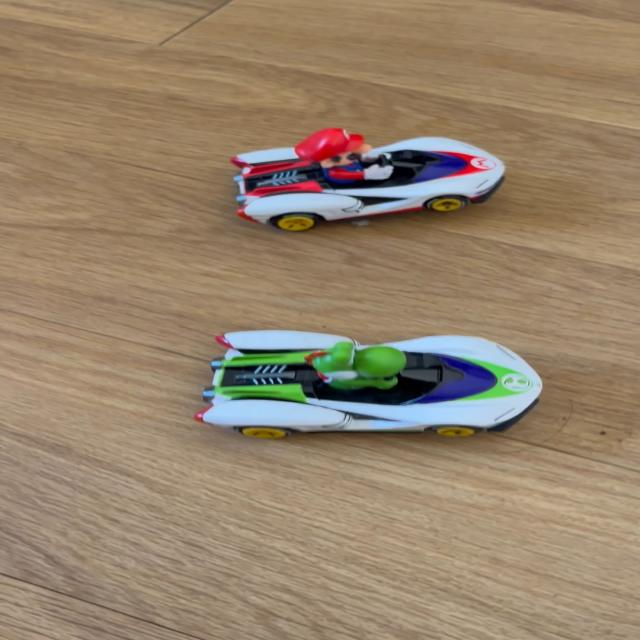mario: (197, 118, 514, 231)
yoshi: (165, 298, 571, 447)
